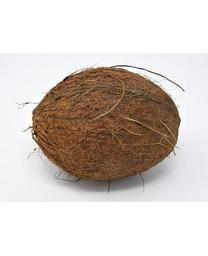coconut: (30, 63, 181, 183)
